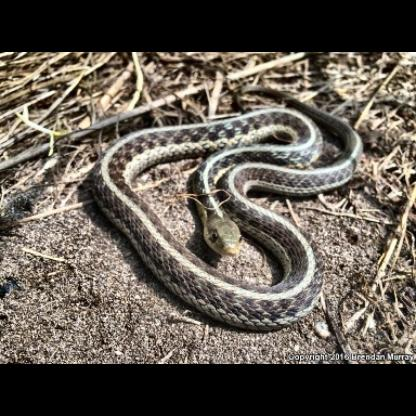Snake: (78, 95, 364, 336)
